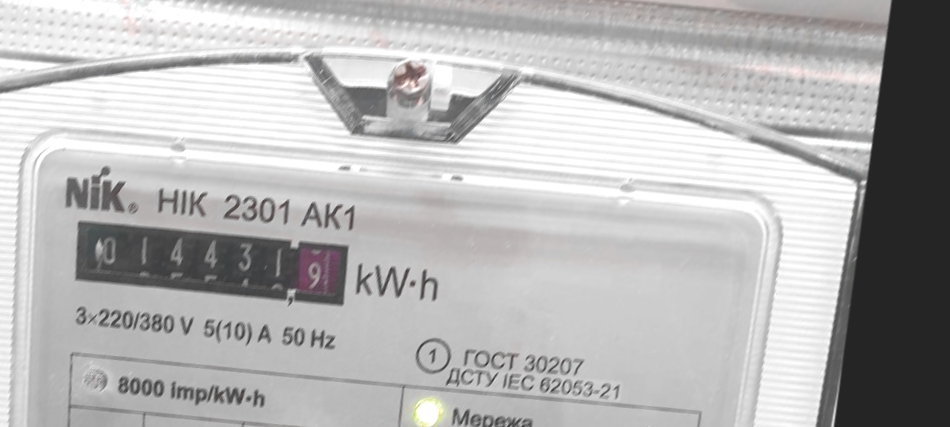0: (95, 231, 119, 266)
1: (131, 231, 153, 266), (267, 244, 285, 278)
3: (231, 239, 254, 274)
4: (162, 232, 187, 267), (197, 234, 219, 270)
9: (300, 257, 321, 290)
screen: (58, 200, 362, 325)
